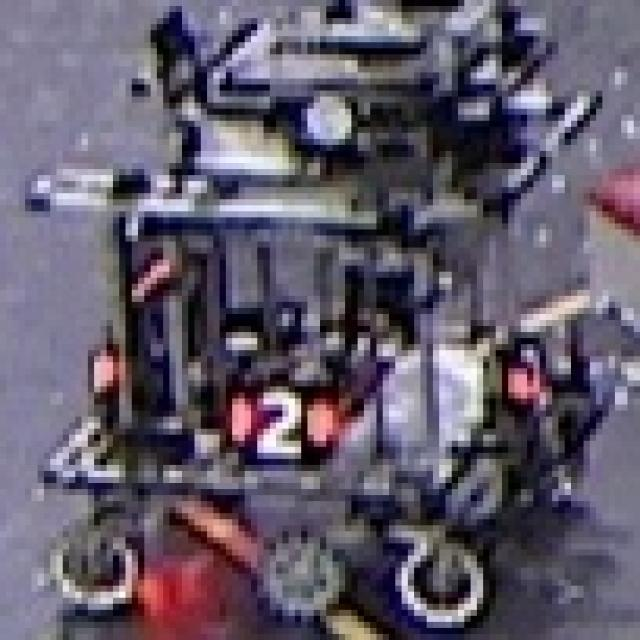R2: (220, 380, 332, 459), (502, 320, 558, 417)
